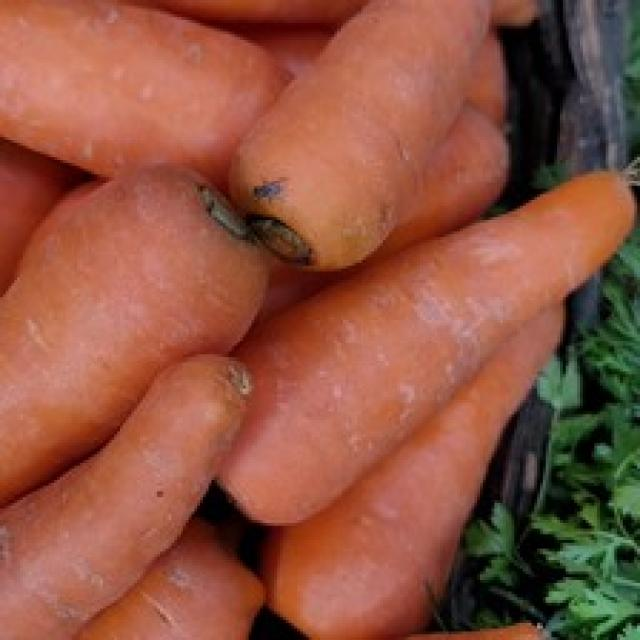carrot: (234, 175, 640, 532), (1, 170, 265, 488)
